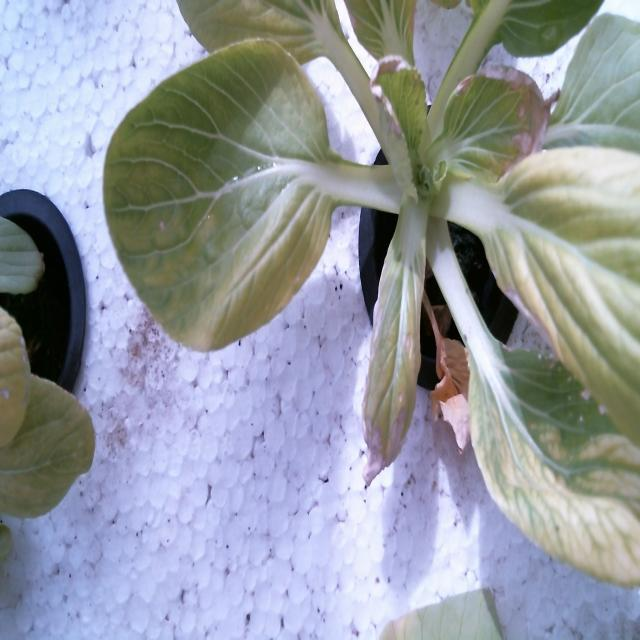pakcoy_tidak_sehat: (101, 0, 640, 587)
